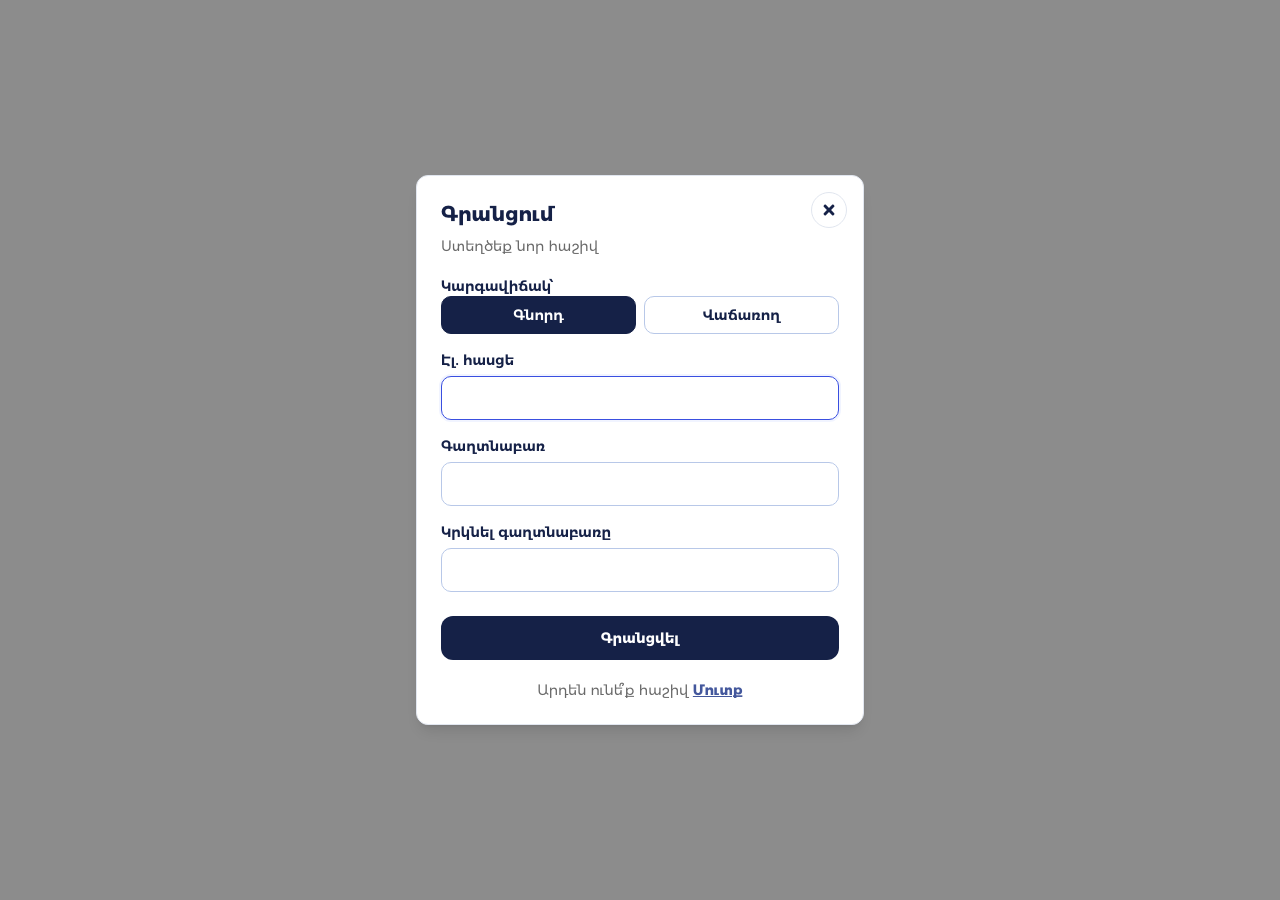
signing in with wrong credentials › an email nobody registered is refused, and no session is created
Click the button "Մուտք". click: (718,690)
box: [693,680,743,700]
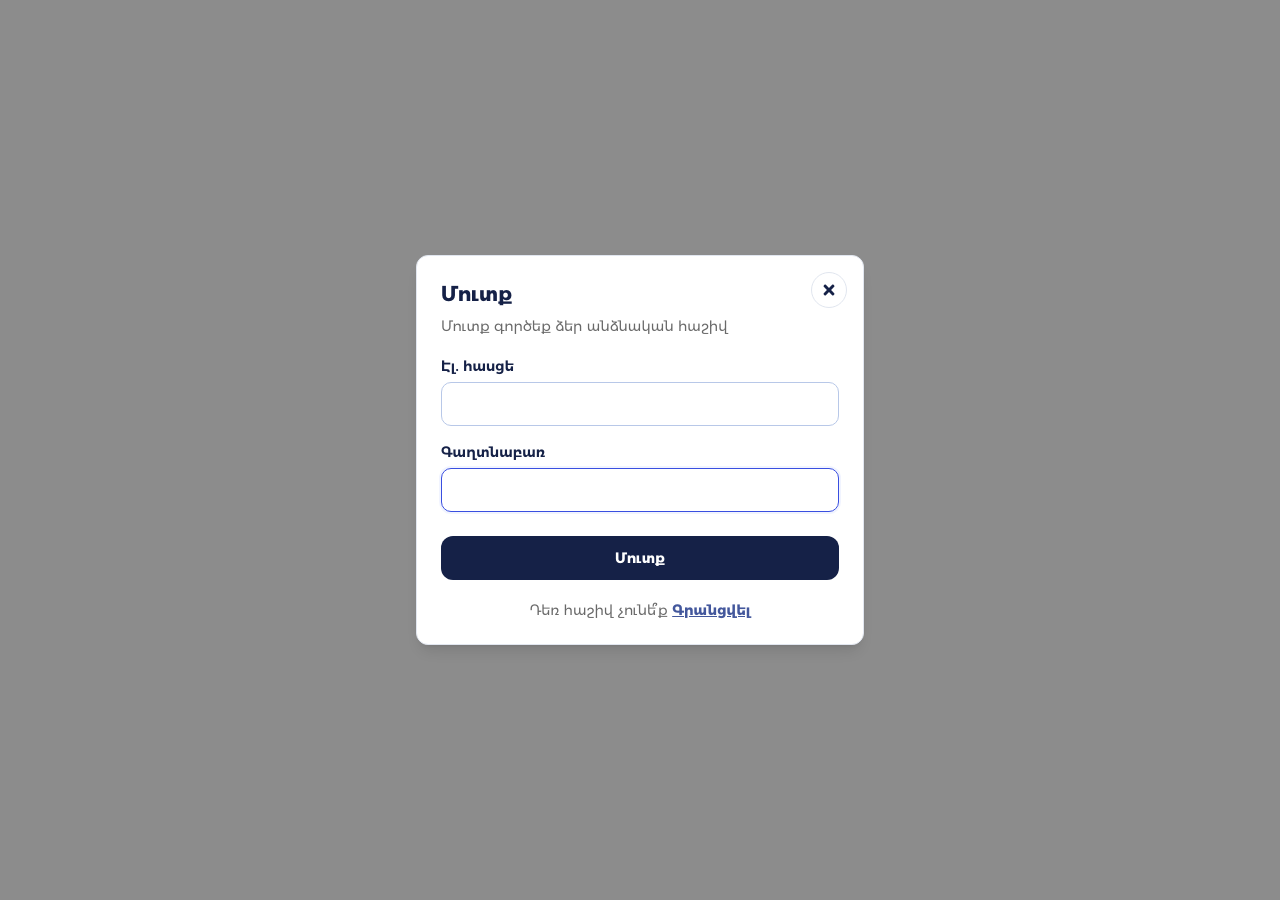
Type "nobody@test.com" into the field labelled "Էլ. հասցե". click: (640,404)
box: [441,382,839,426]
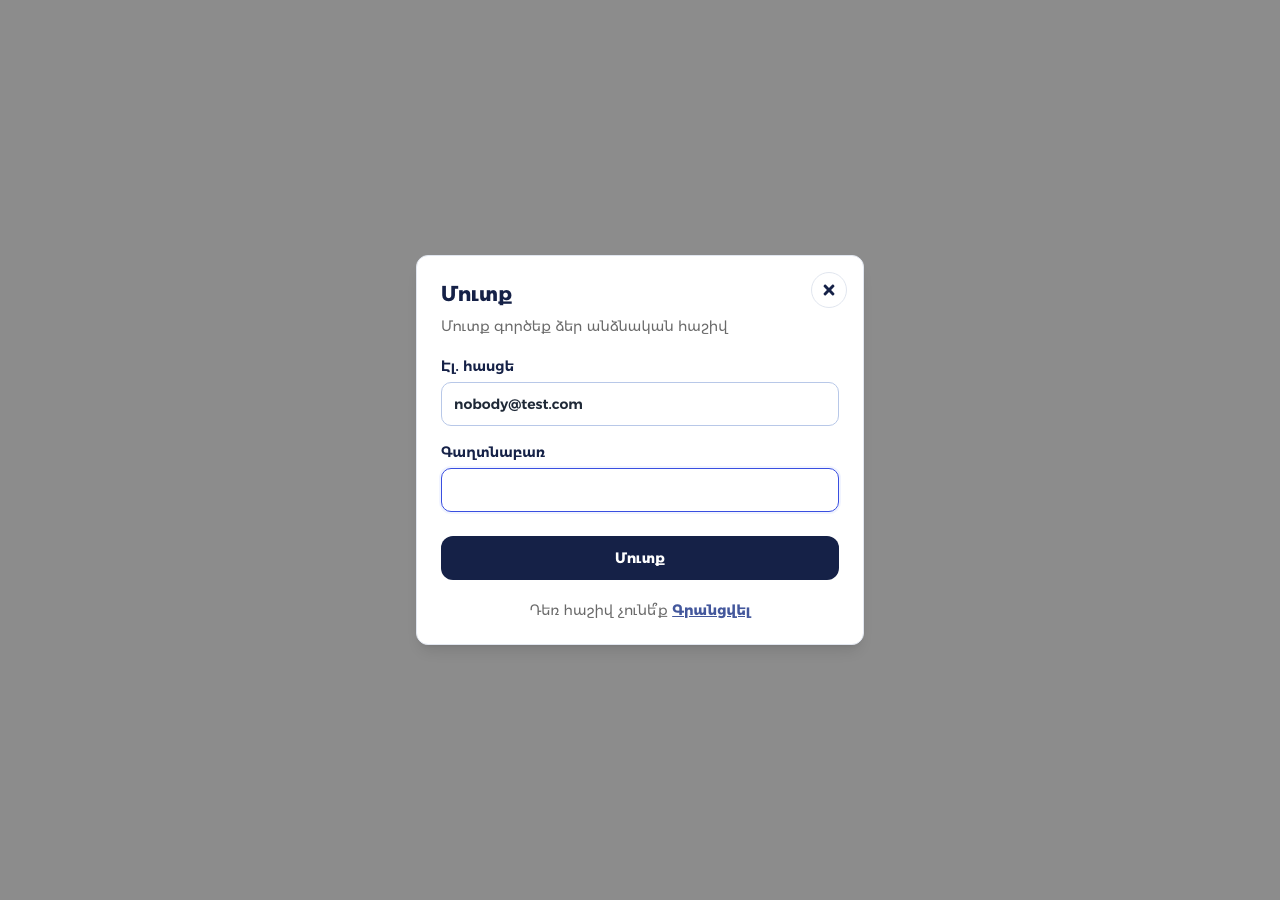
Type "whatever" into the password field labelled "Գաղտնաբառ". click: (640,490)
box: [441,468,839,512]
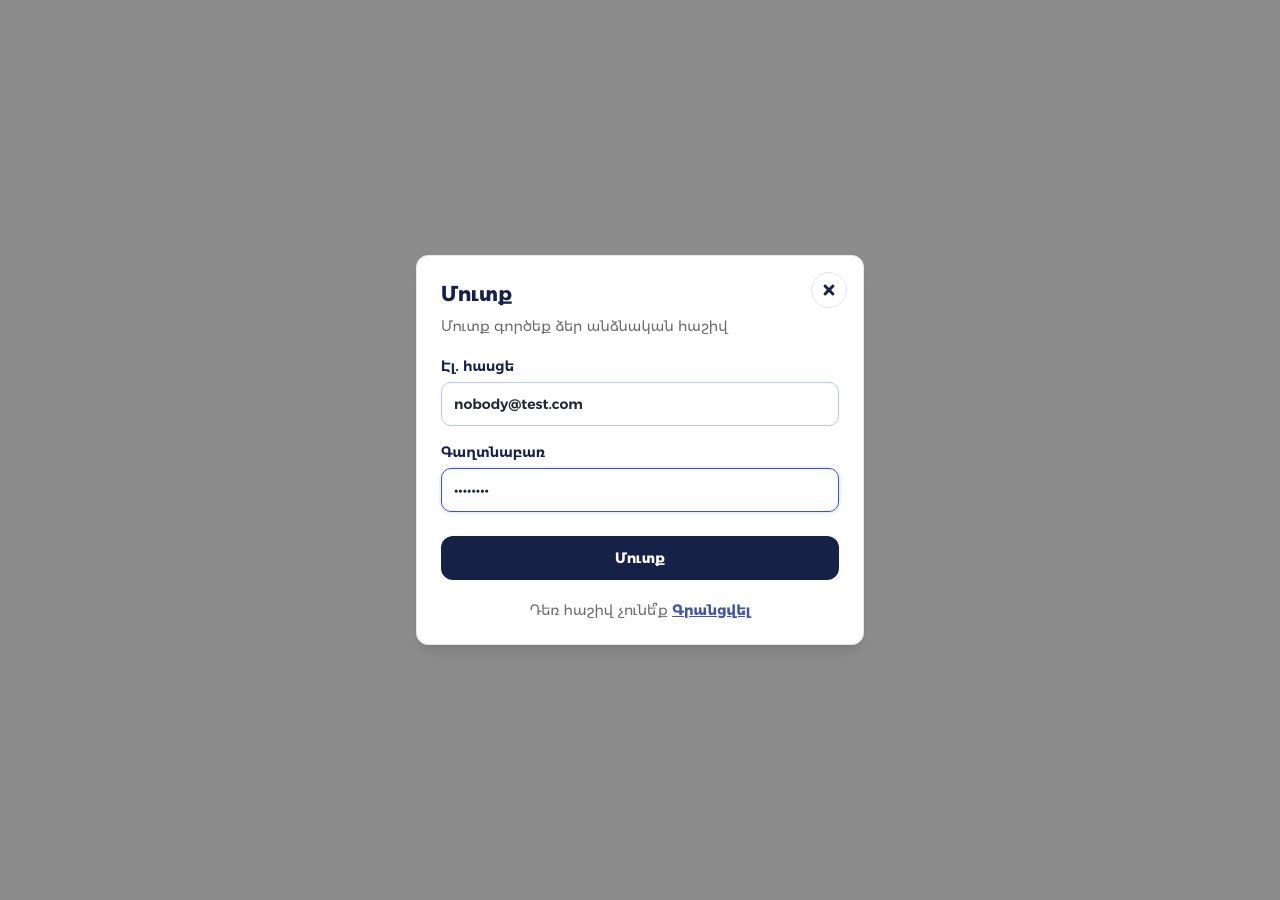
Click the button "Մուտք". click: (640,558)
box: [441,536,839,580]
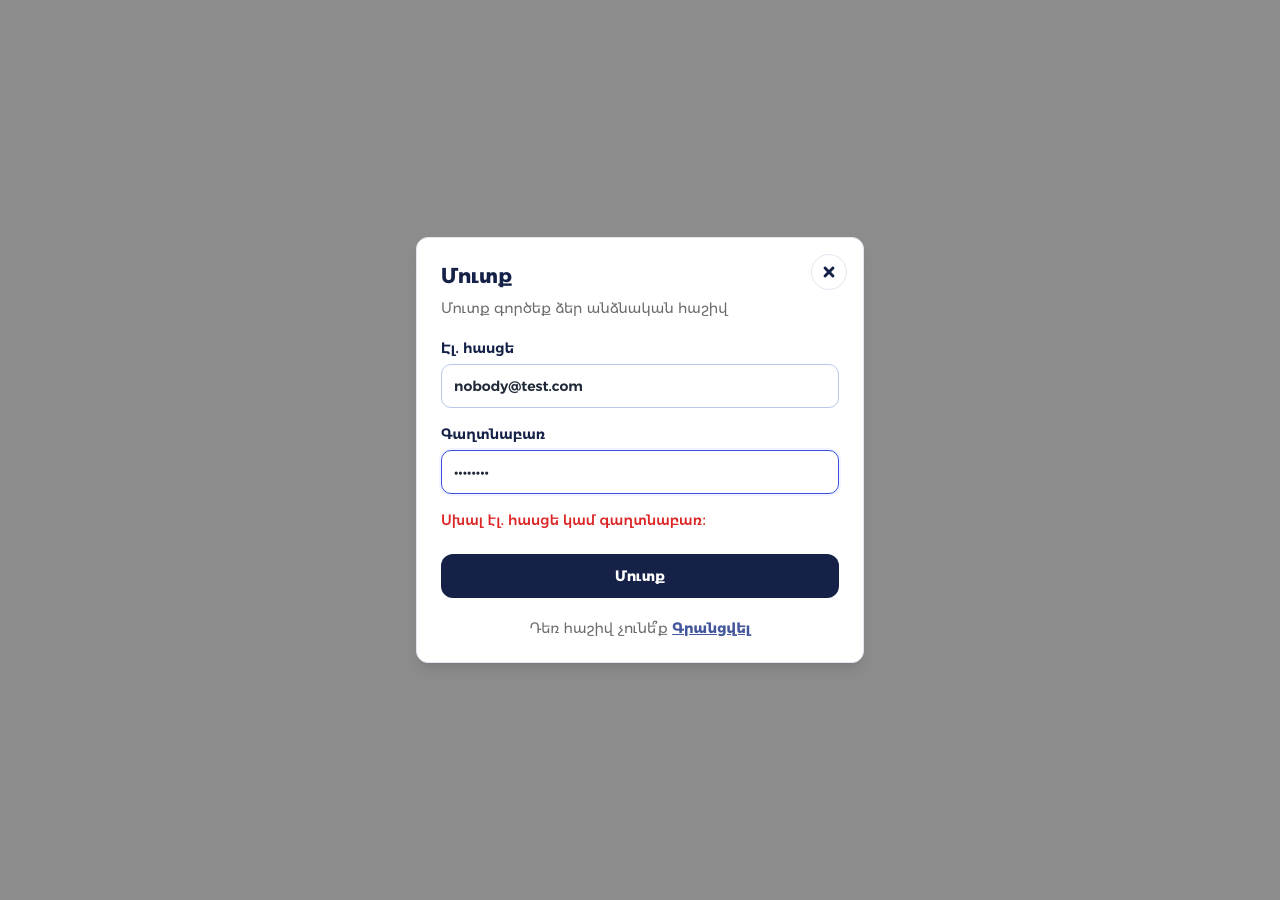
Expected: the message reads "Սխալ էլ. հասցե կամ գաղտնաբառ։", [441,511,706,529]
